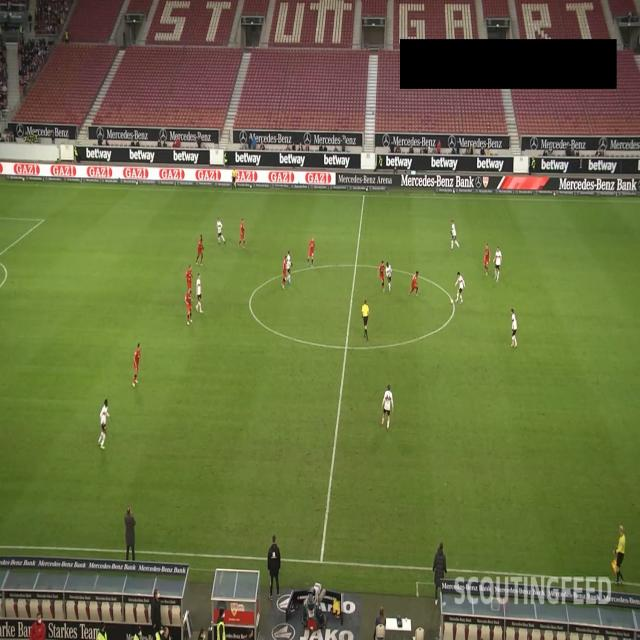ball: (450, 298, 453, 306)
f_player: (98, 399, 111, 449), (382, 385, 394, 430), (282, 249, 294, 288), (493, 247, 505, 284), (132, 344, 142, 388), (454, 271, 466, 307), (195, 272, 205, 314), (379, 261, 392, 293), (384, 262, 396, 294), (510, 310, 519, 350), (185, 288, 194, 327), (196, 236, 206, 265), (448, 222, 458, 250), (185, 264, 194, 295), (216, 218, 226, 245), (409, 270, 420, 294), (307, 237, 316, 266), (483, 246, 492, 275), (238, 219, 246, 249)
umpire: (612, 523, 628, 585), (362, 298, 373, 340), (231, 166, 237, 190)
